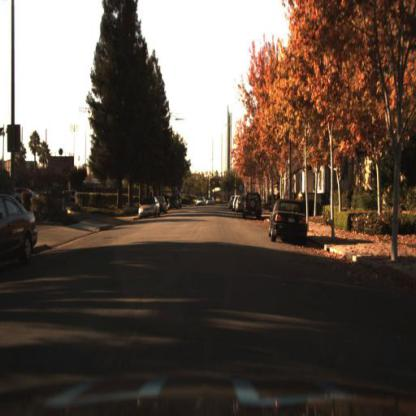car: (263, 191, 316, 258), (2, 192, 41, 273), (242, 190, 264, 222), (138, 194, 160, 222), (13, 185, 39, 208), (192, 191, 206, 214), (159, 191, 171, 215), (204, 191, 217, 210), (169, 195, 181, 212)
